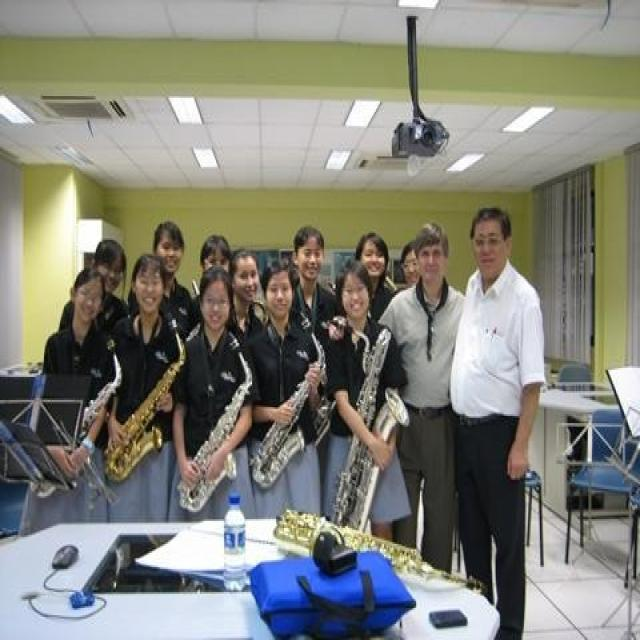saxophone: (270, 503, 489, 598), (332, 309, 411, 539), (174, 328, 256, 512), (104, 315, 189, 490), (248, 317, 326, 491), (65, 350, 124, 434)
